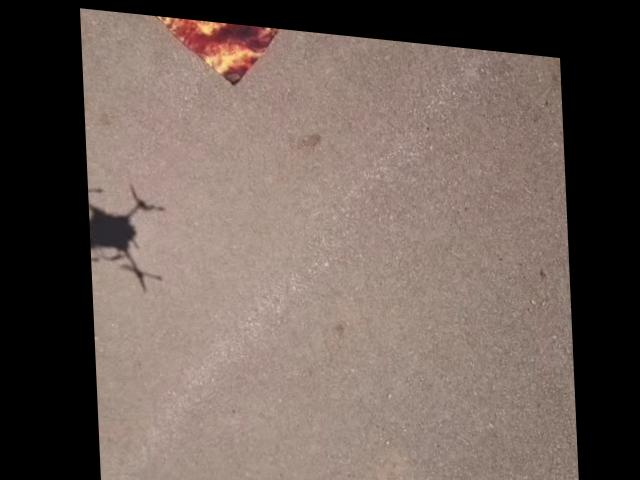fire-poster: (138, 11, 295, 86)
